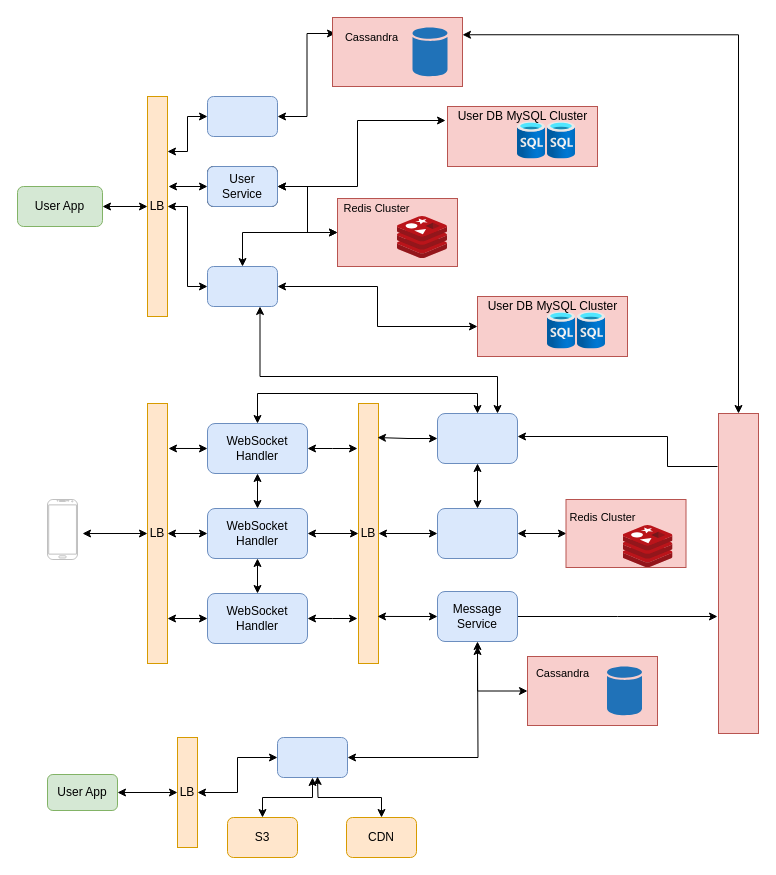
Image size: 776x875. Some labels were removed from this diagram. The shapes that lost their labels are listed below. From the top down, each one's centre as x and y in pixels, then its label:
At (x=242, y=116): "Last Seen Service".
At (x=242, y=286): "Group Service".
At (x=477, y=438): "Group Message Handler".
At (x=477, y=533): "WebSocket Manager".
At (x=738, y=573): "Kafka".
At (x=312, y=757): "Asset Service".
